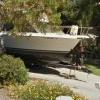Boat: (2, 23, 87, 64)
